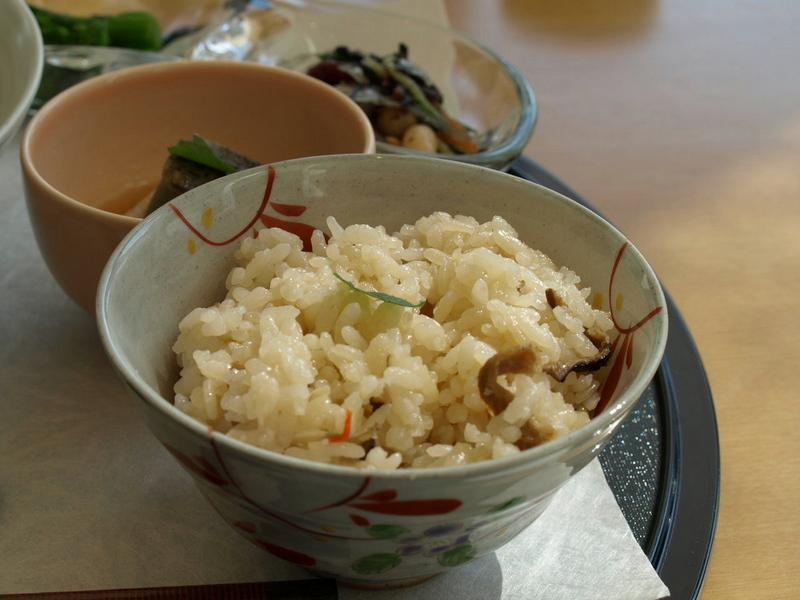rice: (173, 212, 612, 469)
